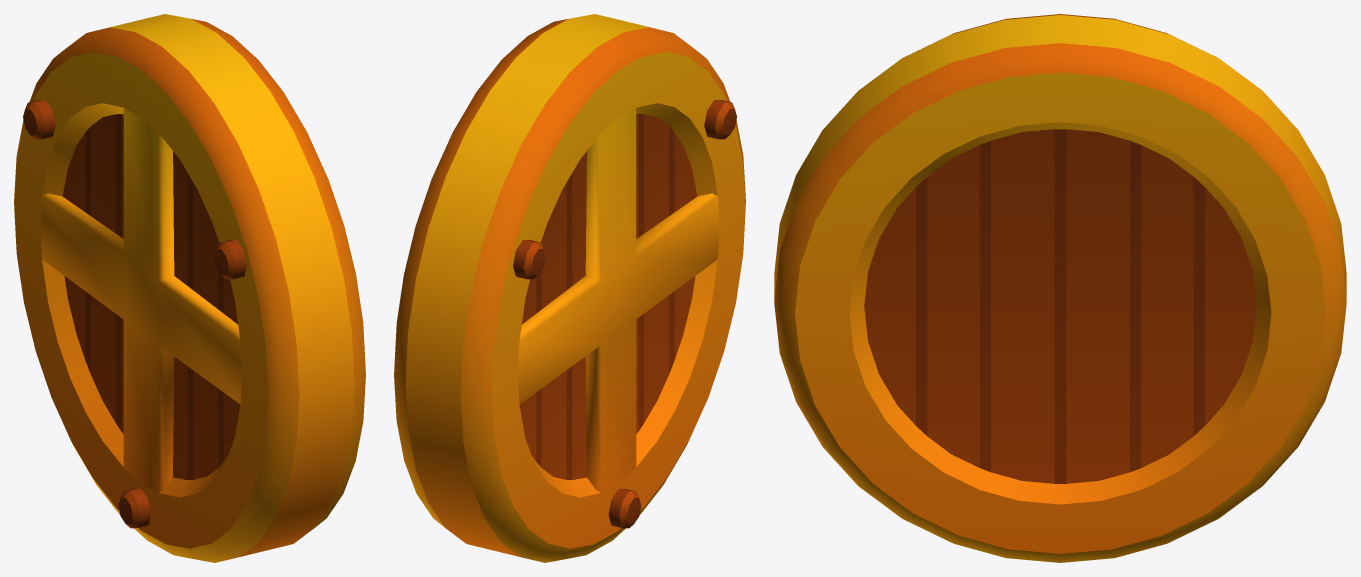
File: Shield_V2_01.fbx
3 views of the same model, side by side, from view 1: azimuth 30°, elevation 25°; view 2: azimuth 150°, elevation 25°; view 3: azimuth 270°, elevation 25° (orthographic). The views are drawn at different scales.
Parts seen in each view (by area): view 1: Shield_V2_01; view 2: Shield_V2_01; view 3: Shield_V2_01.
Boxes of the visible parts, bbox=[...] form: Shield_V2_01: bbox=[14, 14, 365, 562]; Shield_V2_01: bbox=[394, 14, 745, 562]; Shield_V2_01: bbox=[774, 14, 1346, 562].
Bounding box in the file's own units: 9.61 × 40.37 × 40.37.
